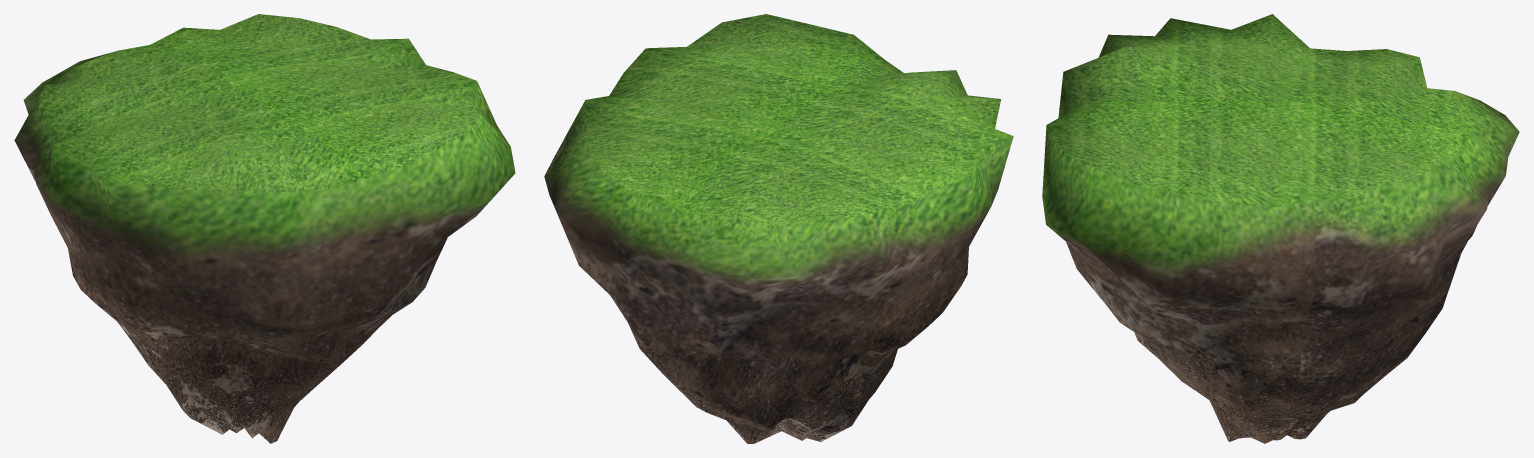
The model's file is glassland.fbx.
3 renders of one model, left to right at view 1: azimuth 30°, elevation 25°; view 2: azimuth 150°, elevation 25°; view 3: azimuth 270°, elevation 25°, orthographic. The views are drawn at different scales.
Visible parts, largest first — view 1: Sphere001; view 2: Sphere001; view 3: Sphere001.
Boxes of the visible parts, <box> form: Sphere001: <box>14,14,515,443</box>; Sphere001: <box>544,14,1013,443</box>; Sphere001: <box>1042,14,1519,443</box>.
Bounding box in the file's own units: 112 × 94.41 × 117.
